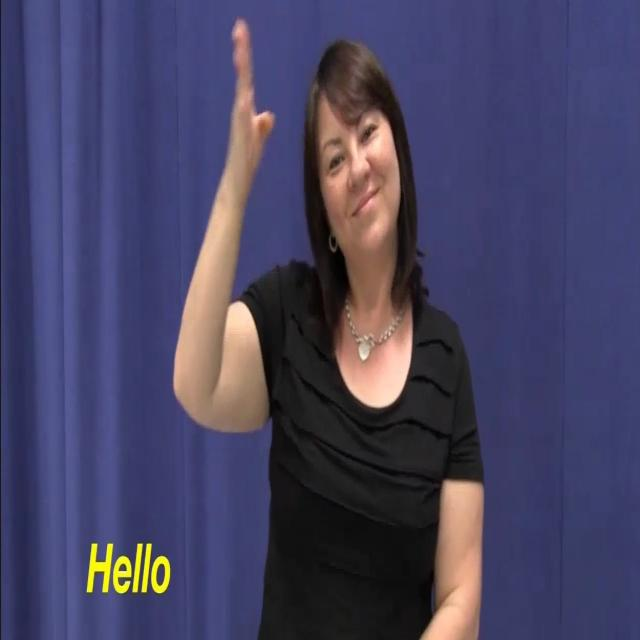Hello: (172, 16, 484, 640)
